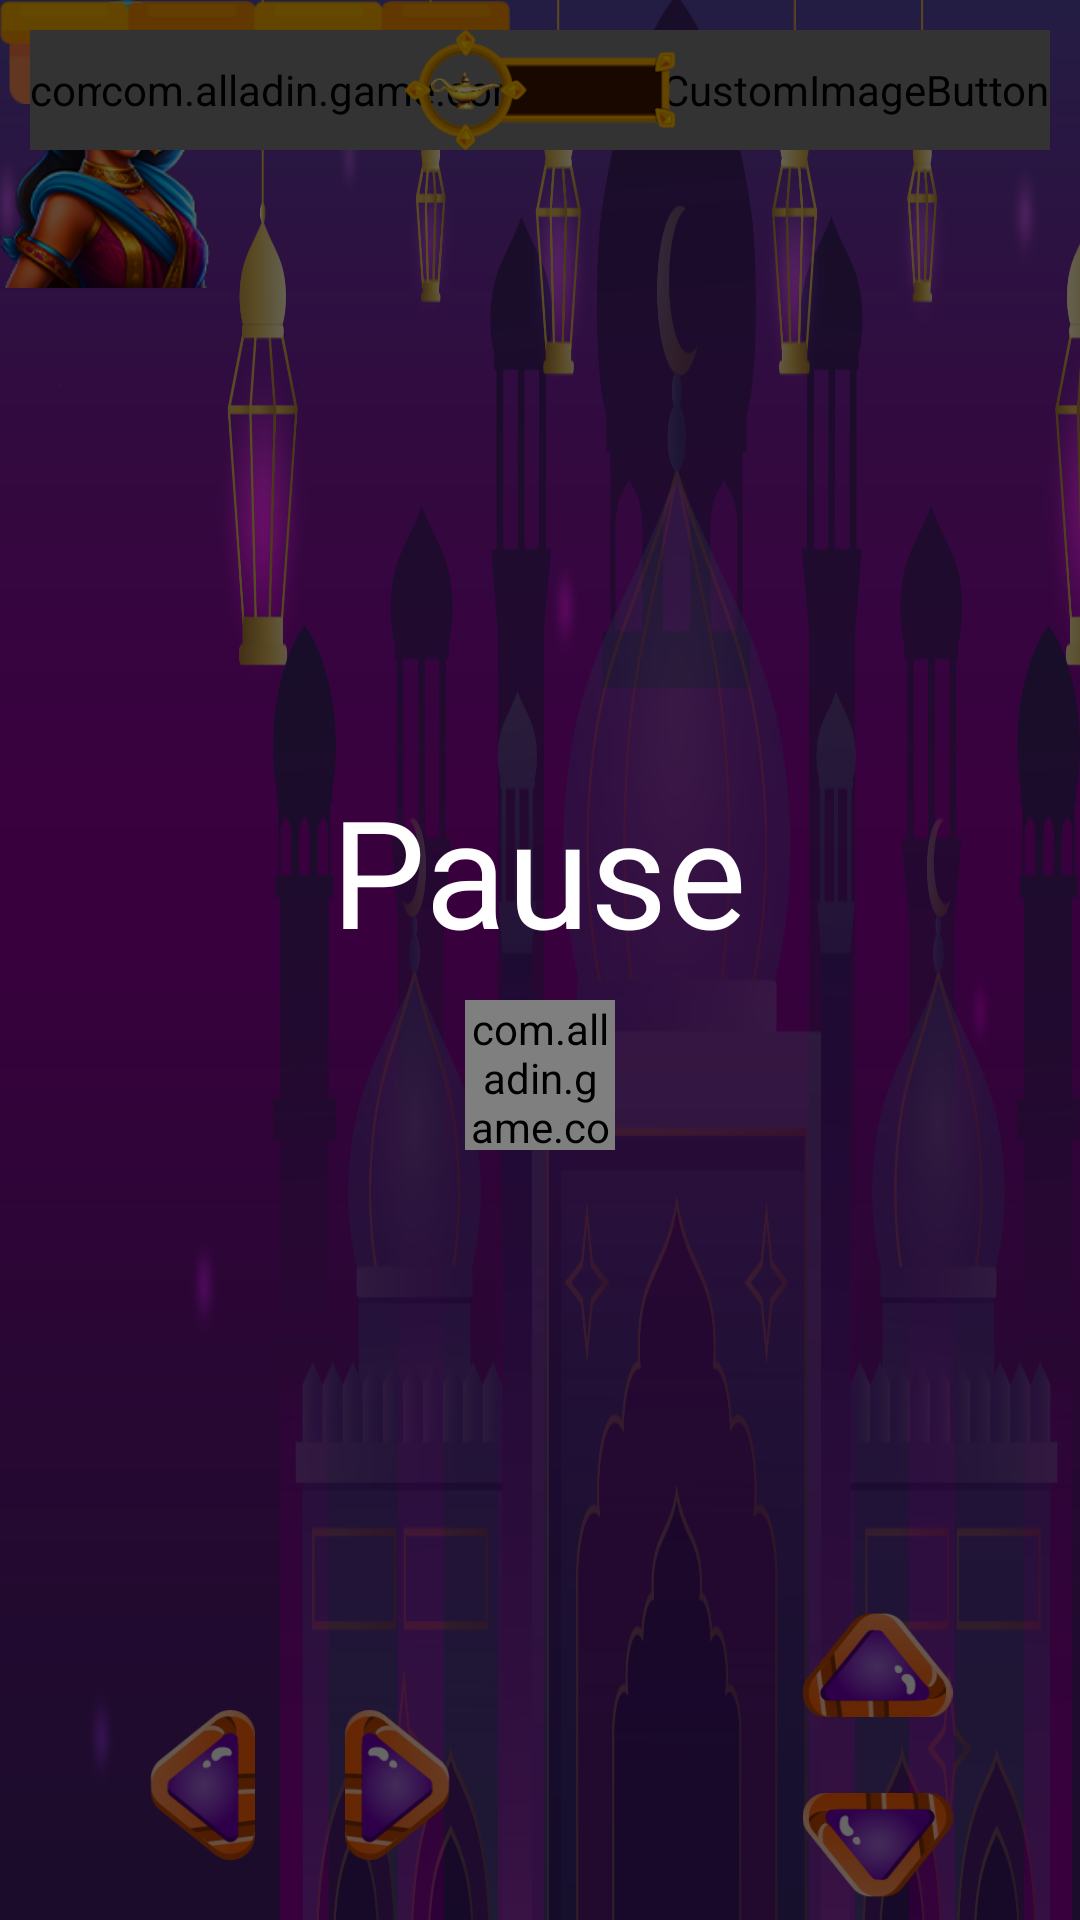

Where icons sit on this 1080*1920 app screen, as [left=x1, top=y1, right=x2, bottom=y2]:
player: [left=0, top=0, right=210, bottom=288]
score: [left=405, top=30, right=675, bottom=150]
